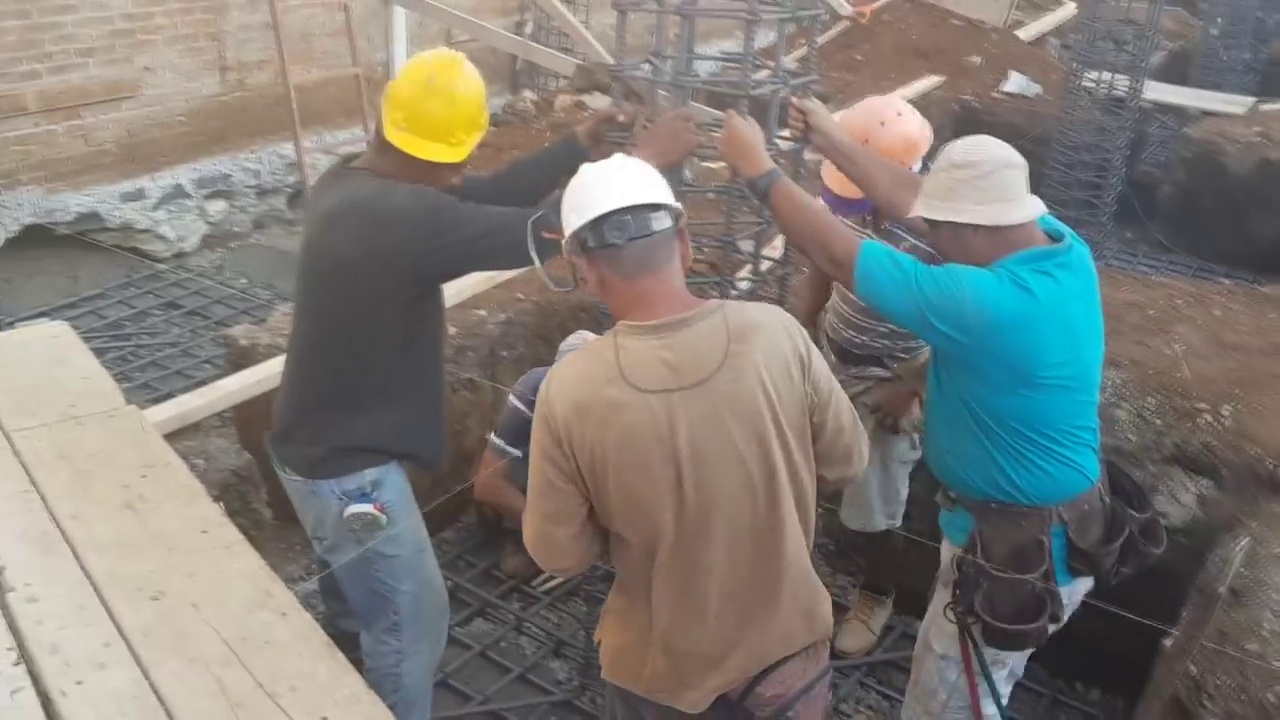helmet: (812, 83, 935, 201), (558, 154, 688, 263), (369, 50, 487, 161)
helmet-off: (910, 133, 1065, 274)
helmet-on: (552, 152, 702, 332), (337, 47, 493, 192), (809, 84, 936, 230)
person: (717, 102, 1118, 720), (515, 137, 875, 720), (259, 52, 541, 707), (779, 89, 937, 666), (471, 368, 582, 568)
